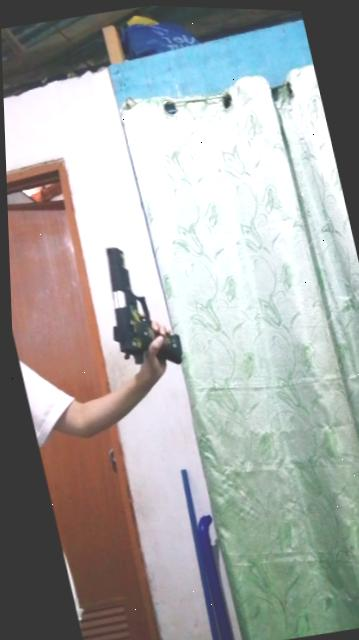pistol: (79, 220, 214, 383)
